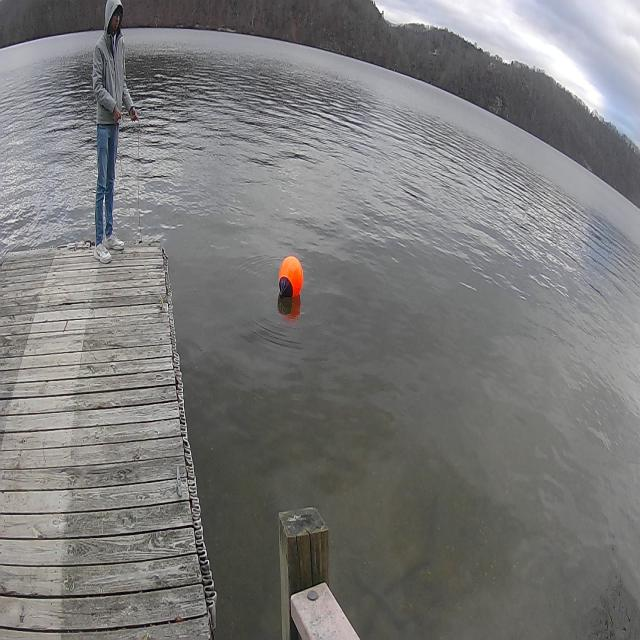Buoy: (276, 251, 305, 302)
